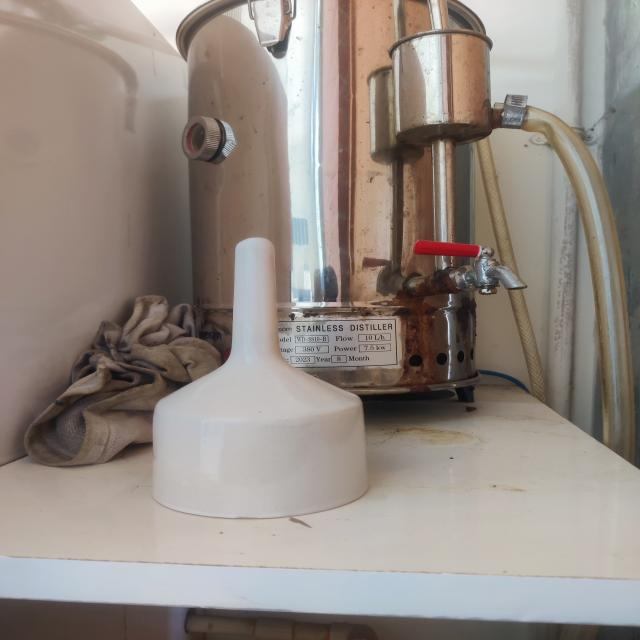Buchner_Funnel: (118, 212, 400, 552)
